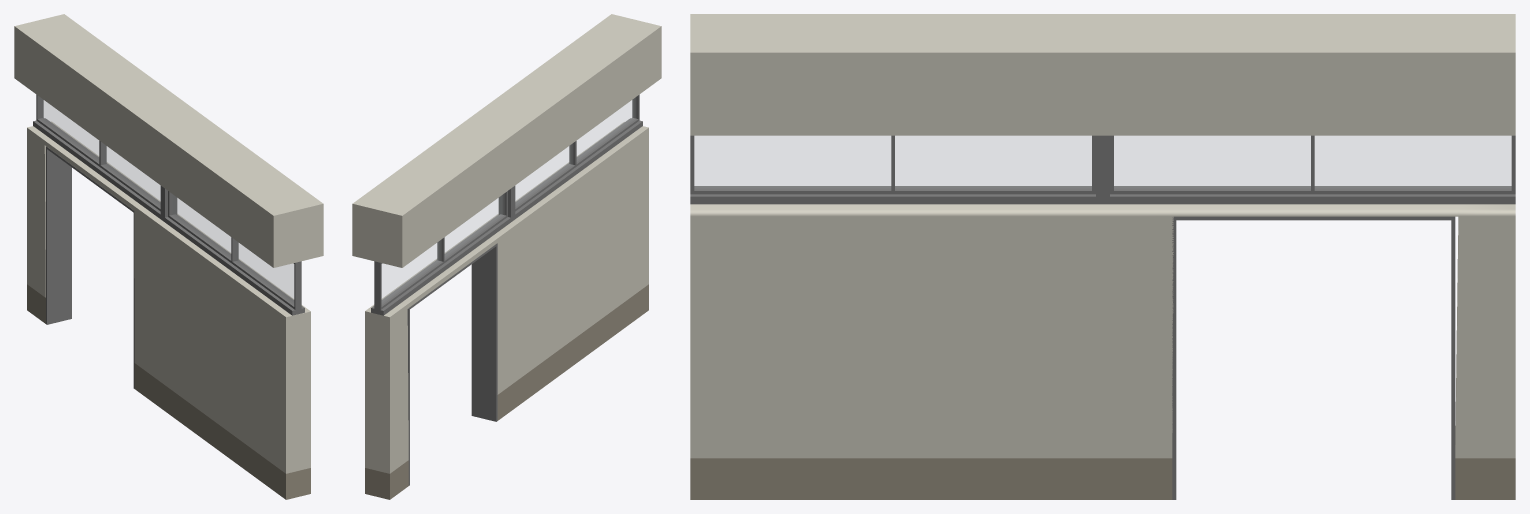
File: wall_Door.fbx
The picture shows the model from 3 angles, left to right: view 1: azimuth 30°, elevation 25°; view 2: azimuth 150°, elevation 25°; view 3: azimuth 270°, elevation 25°; orthographic projection. The views are drawn at different scales.
Parts seen in each view (by area): view 1: Wall_Door1; view 2: Wall_Door1; view 3: Wall_Door1.
Boxes of the visible parts, <box> form: Wall_Door1: <box>14,14,323,499</box>; Wall_Door1: <box>352,14,661,499</box>; Wall_Door1: <box>690,14,1515,499</box>.
Bounding box in the file's own units: 60.96 × 335 × 549.
